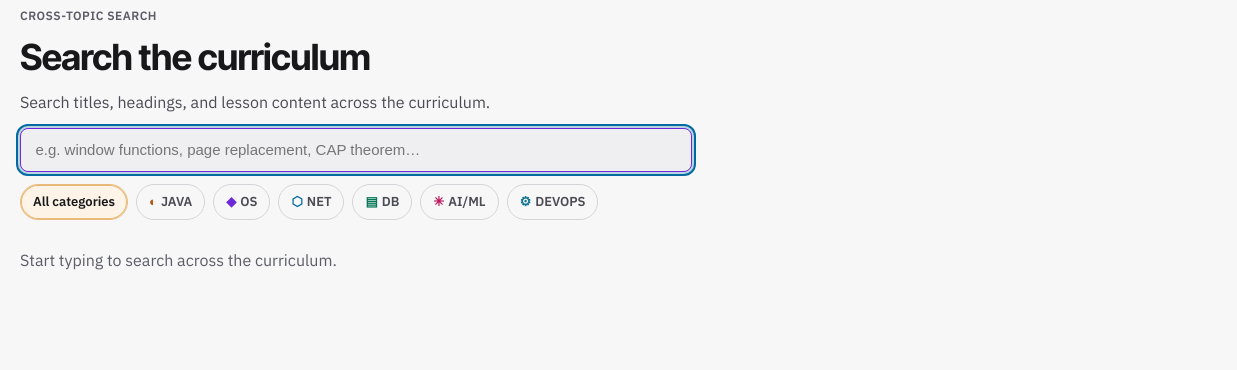
Scenario: SearchPage › shows a no-results state for an empty result set
The image size is (1237, 370).
Type "zzz" into the search field at x=356, y=150, box [20, 128, 692, 172]
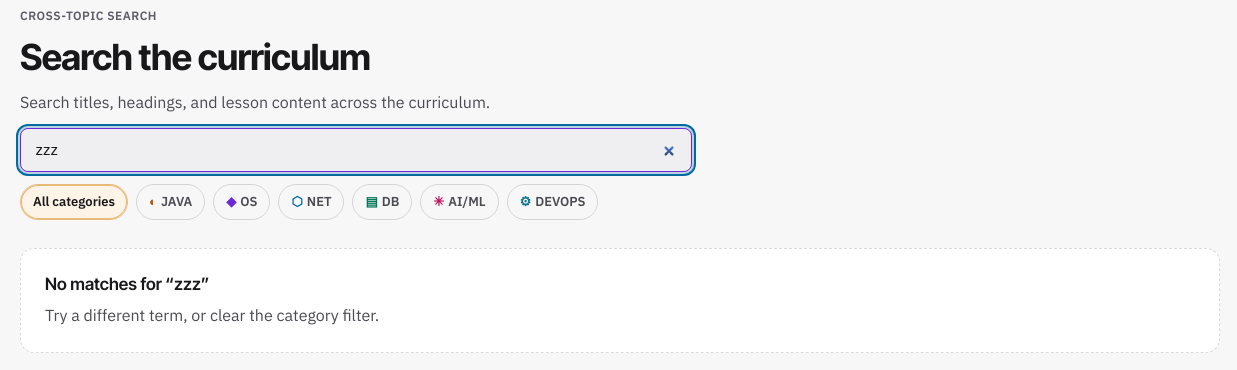
Expected: the heading "No matches for “zzz”" is shown, [45, 273, 210, 295]
